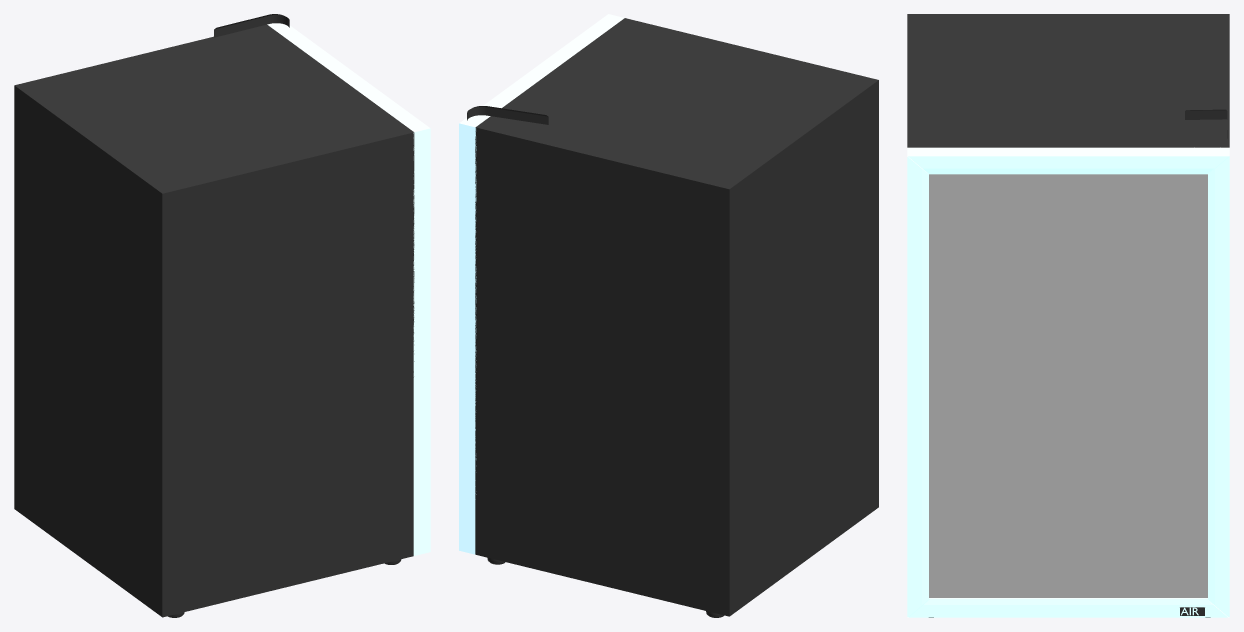
The model's file is minifridge.fbx.
3 views of the same model, side by side, from view 1: azimuth 30°, elevation 25°; view 2: azimuth 150°, elevation 25°; view 3: azimuth 270°, elevation 25° (orthographic). The views are drawn at different scales.
Parts seen in each view (by area): view 1: fridge, door, arm; view 2: fridge, door, arm; view 3: door, fridge, arm.
Boxes of the visible parts, x1,y1,x2,y2 form: fridge: (14,24,414,617); door: (267,23,430,555); arm: (214,14,289,37); fridge: (475,18,878,616); door: (459,14,624,554); arm: (467,106,548,124); door: (907,147,1229,617); fridge: (907,14,1229,147); arm: (1185,109,1227,138).
Size of the model in its own units: 142 by 224 by 135.
